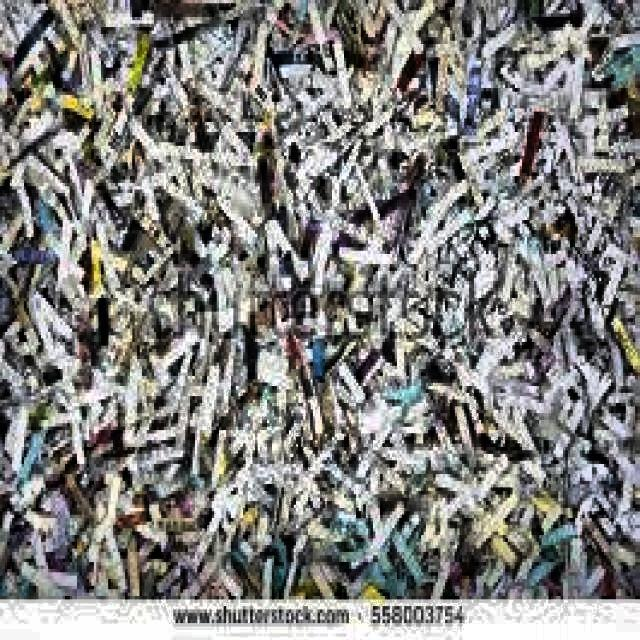Paper: (0, 0, 638, 596)
